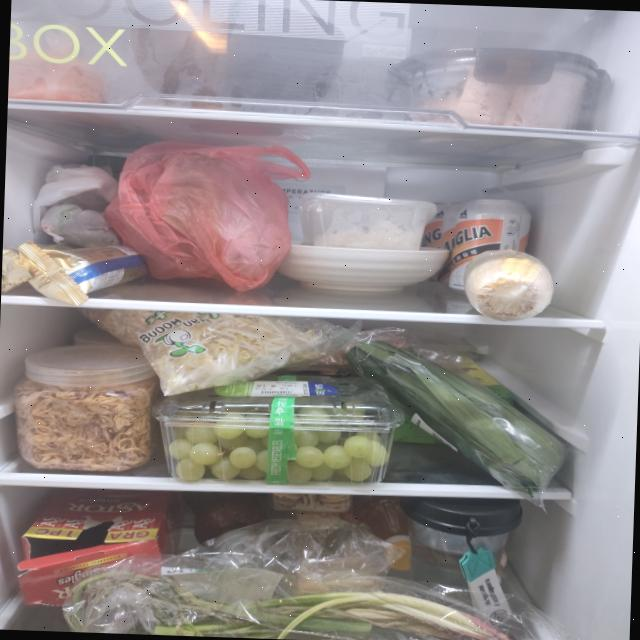bean_sprouts: (76, 307, 328, 402)
corn: (461, 247, 555, 323)
grape: (167, 390, 391, 488)
leafy_greens: (339, 339, 571, 499)
spring_onion: (64, 568, 537, 640)
